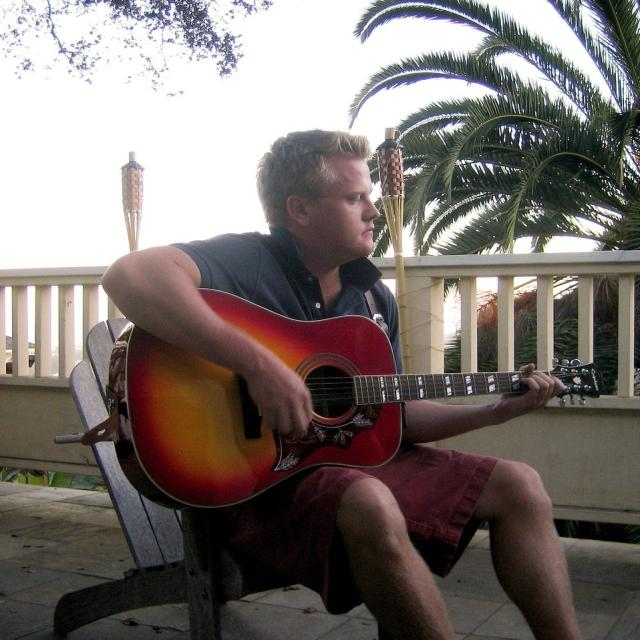guitar: (109, 284, 606, 515)
